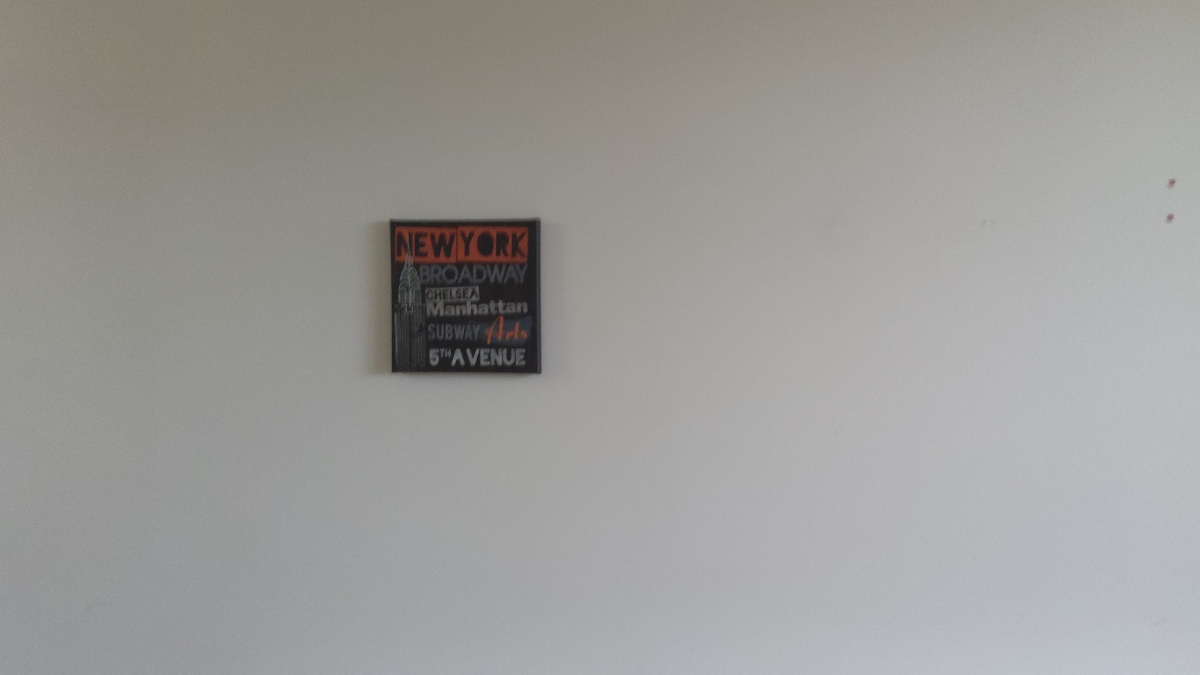poster: (385, 213, 547, 375)
